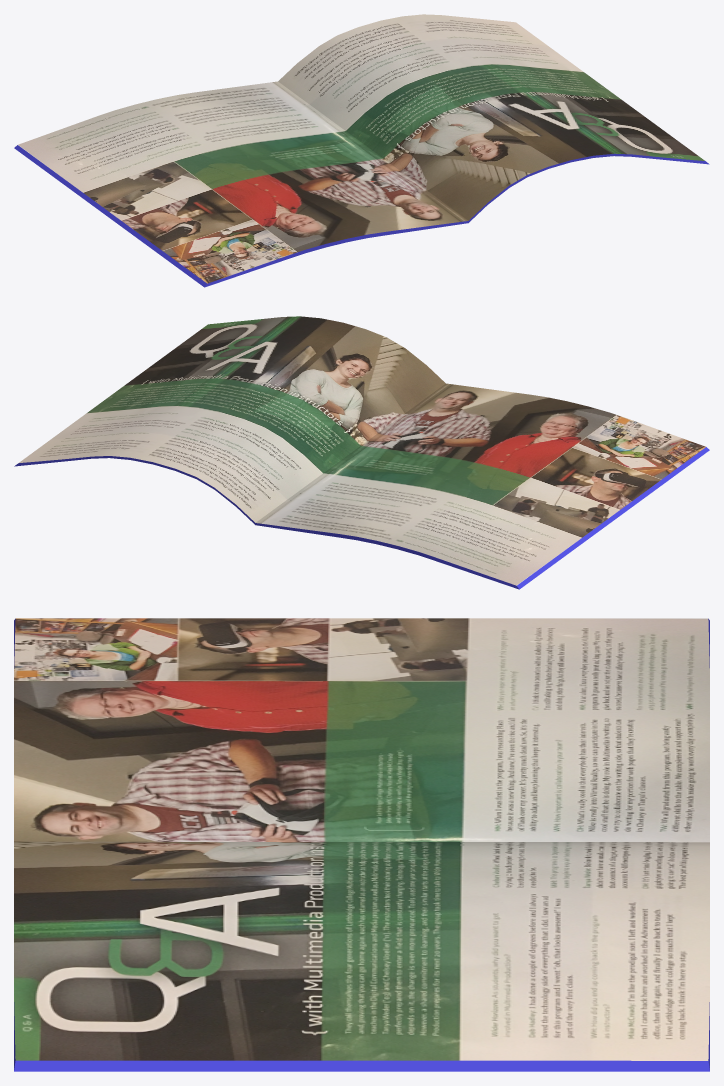
Rendered from magazine.fbx.
The picture shows the model from 3 angles, top to bottom: view 1: azimuth 30°, elevation 25°; view 2: azimuth 150°, elevation 25°; view 3: azimuth 270°, elevation 25°; orthographic projection. The views are drawn at different scales.
Visible parts, largest first — view 1: magazine; view 2: magazine; view 3: magazine.
Part boxes in pixels (box(x1,y1,x2,y2)): magazine: box(14, 14, 709, 287); magazine: box(14, 316, 709, 589); magazine: box(14, 618, 709, 1071).
Size of the model in its own units: 38.29 by 2.77 by 25.
Materials: 2 (1 with a texture image).
